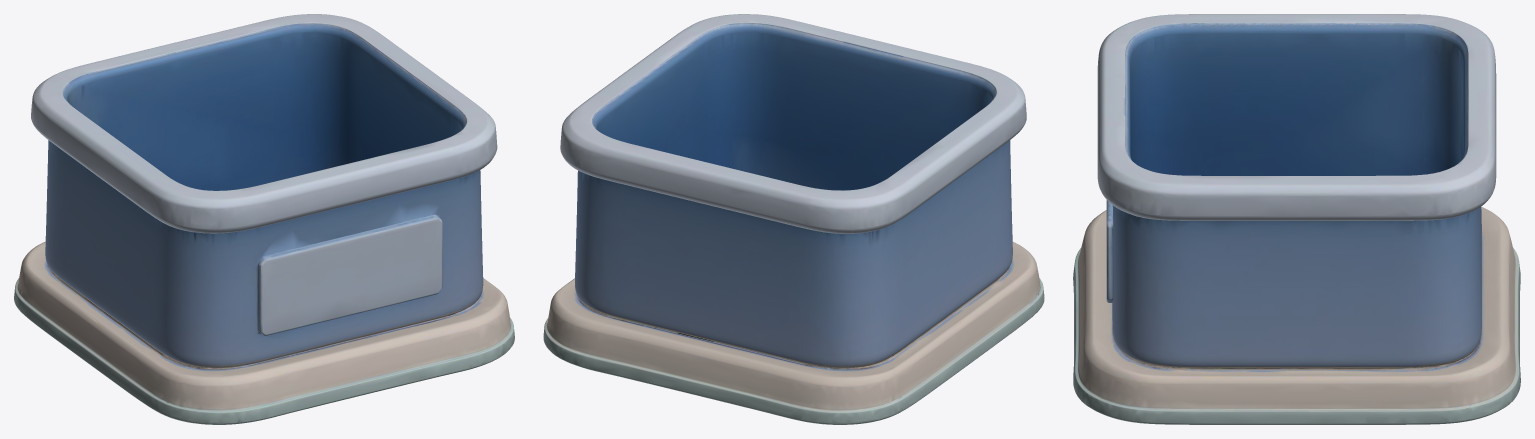
The model's file is bin-cube.glb.
3 renders of one model, left to right at view 1: azimuth 30°, elevation 25°; view 2: azimuth 150°, elevation 25°; view 3: azimuth 270°, elevation 25°, orthographic. The views are drawn at different scales.
Parts seen in each view (by area): view 1: bin-cube; view 2: bin-cube; view 3: bin-cube.
Boxes of the visible parts, x1,y1,x2,y2 form: bin-cube: [14, 14, 514, 424]; bin-cube: [543, 14, 1044, 424]; bin-cube: [1073, 14, 1520, 424].
Size of the model in its own units: 1.12 by 0.6421 by 1.12.
Materials: 1 (1 with a texture image).
